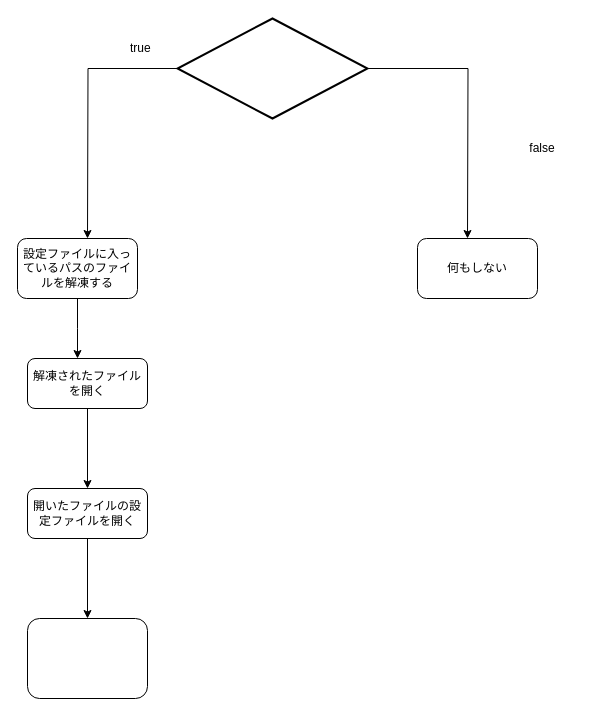
Image size: 605x716. Some labels were removed from this diagram. The centre of each missing label's shape, as x and y in pixels:
問題文ファイルと3択ファイルと答えファイルと説明文ファイル: (87,658)
学習開始ボタンが押された: (272,68)
